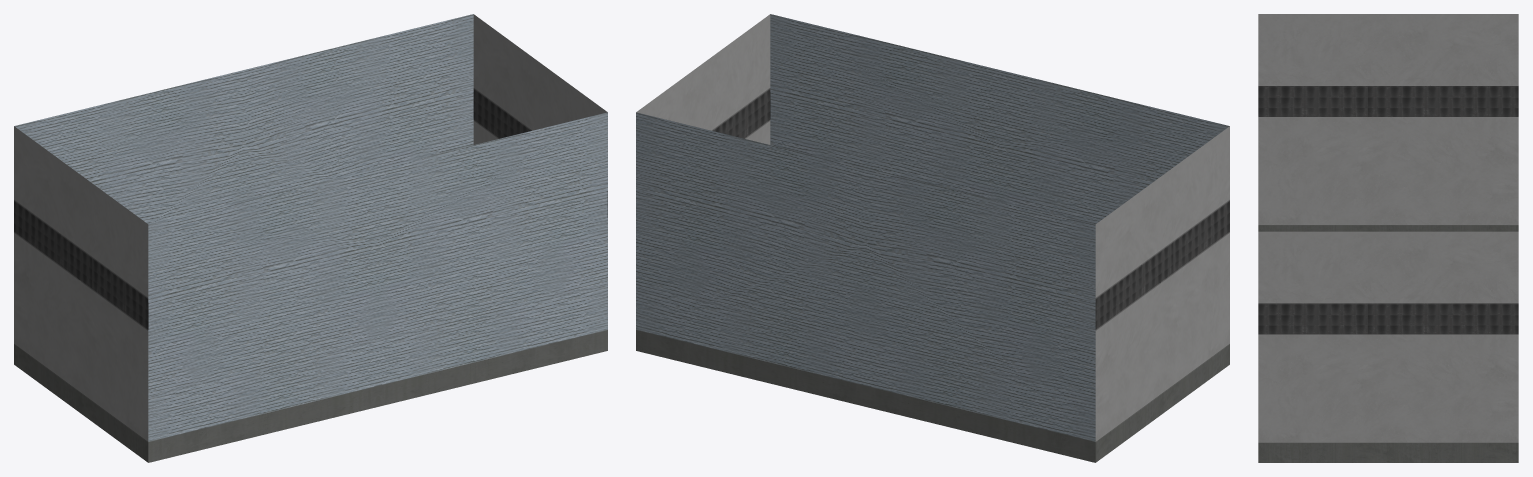
File: KotoHouse_02.fbx
3 renders of one model, left to right at view 1: azimuth 30°, elevation 25°; view 2: azimuth 150°, elevation 25°; view 3: azimuth 270°, elevation 25°, orthographic. The views are drawn at different scales.
Parts seen in each view (by area): view 1: SM_KotoHouse001; view 2: SM_KotoHouse001; view 3: SM_KotoHouse001.
Part boxes in pixels (x1,y1,x2,y2): SM_KotoHouse001: (14, 14, 607, 462); SM_KotoHouse001: (636, 14, 1229, 462); SM_KotoHouse001: (1258, 14, 1518, 462).
Bounding box in the file's own units: 719 × 357 × 364.
1 material, 1 textured.
